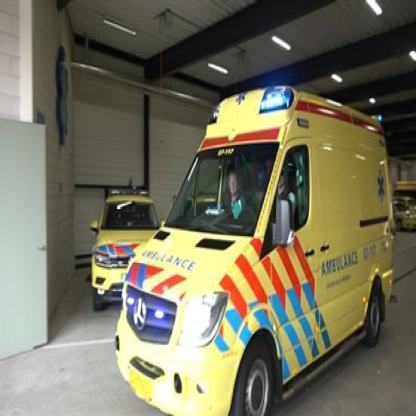Ambulance - v1 Ambulance last generate: (107, 87, 394, 415), (92, 183, 160, 313)
